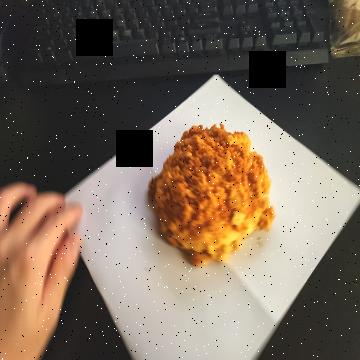soboru_bread: (146, 125, 274, 270)
